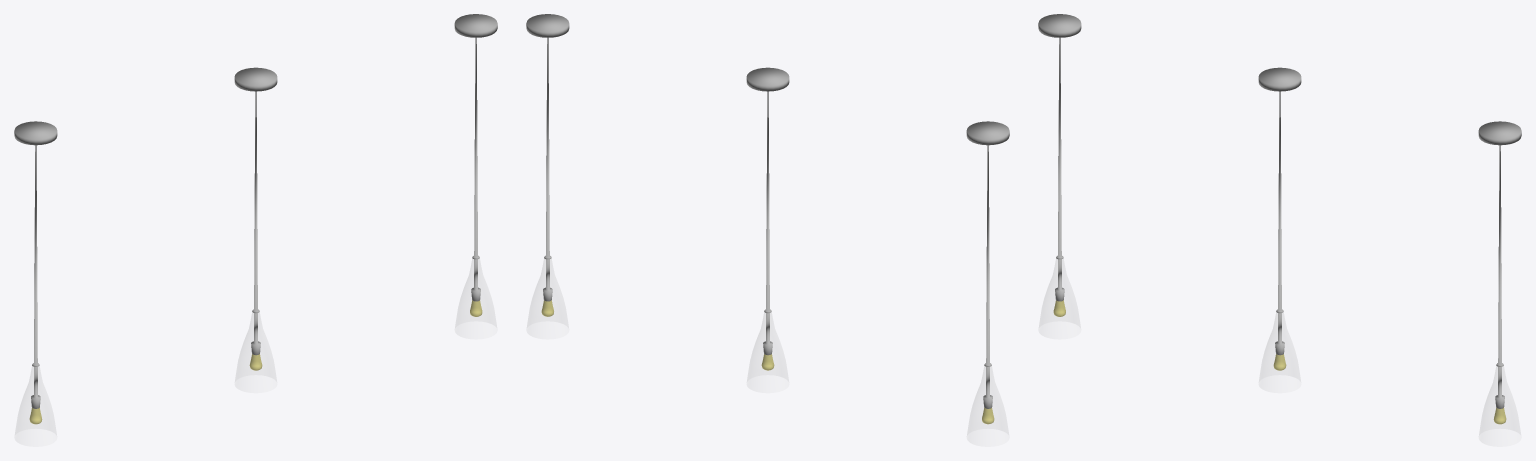
Rendered from Light_ArildaBrushedNickel.glb.
3 views of the same model, side by side, from view 1: azimuth 30°, elevation 25°; view 2: azimuth 150°, elevation 25°; view 3: azimuth 330°, elevation 25° (orthographic).
Parts seen in each view (by area): view 1: Arilda Brushed Nickel; view 2: Arilda Brushed Nickel; view 3: Arilda Brushed Nickel.
Boxes of the visible parts, x1,y1,x2,y2 form: Arilda Brushed Nickel: [14, 14, 497, 434]; Arilda Brushed Nickel: [526, 14, 1009, 434]; Arilda Brushed Nickel: [1038, 14, 1521, 434].
Size of the model in its own units: 2.44 by 1.5 by 0.191.
